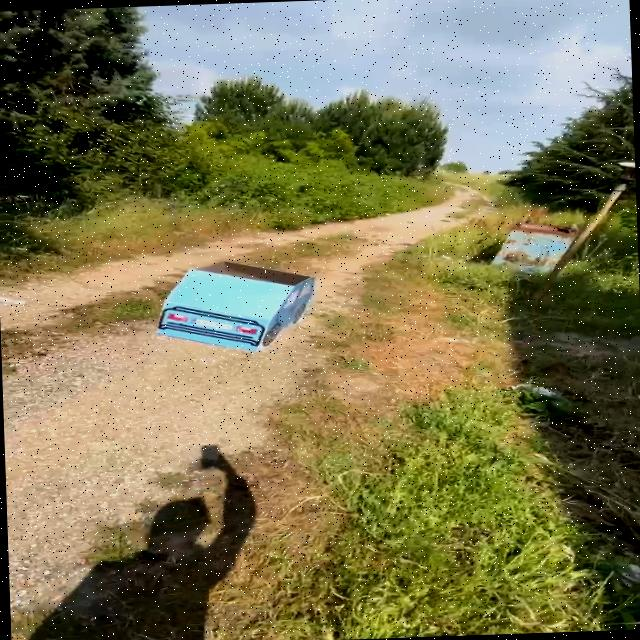blue_car: (126, 253, 348, 362)
